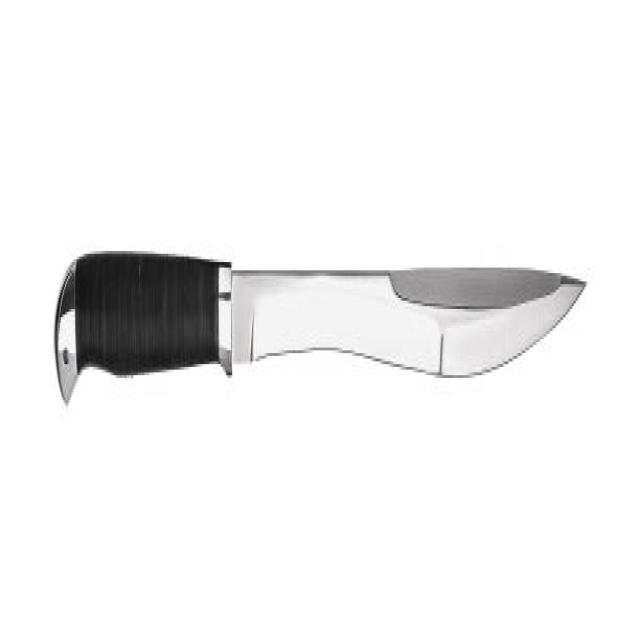knife: (48, 226, 592, 429)
